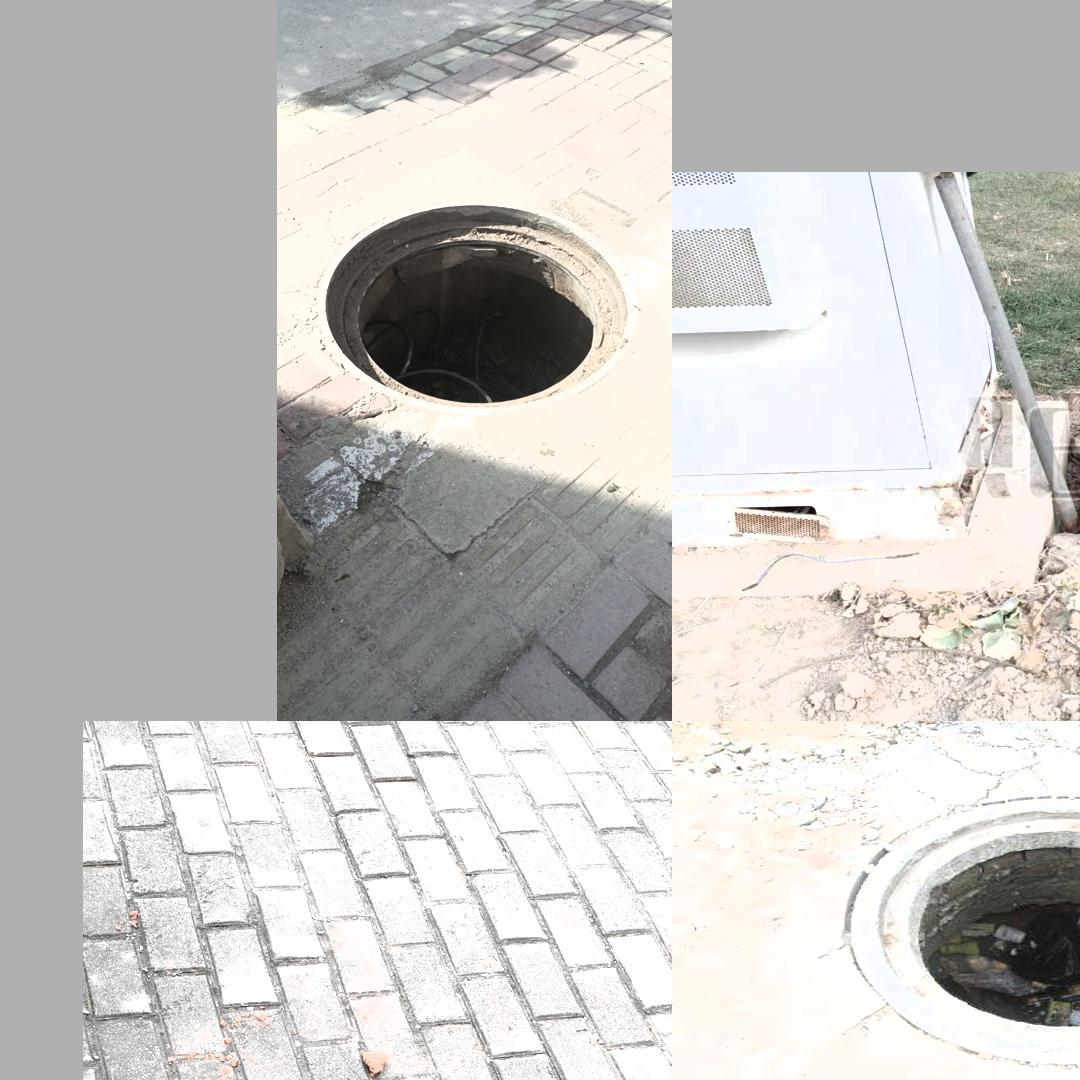lose: (317, 201, 636, 415), (848, 793, 1080, 1071)
